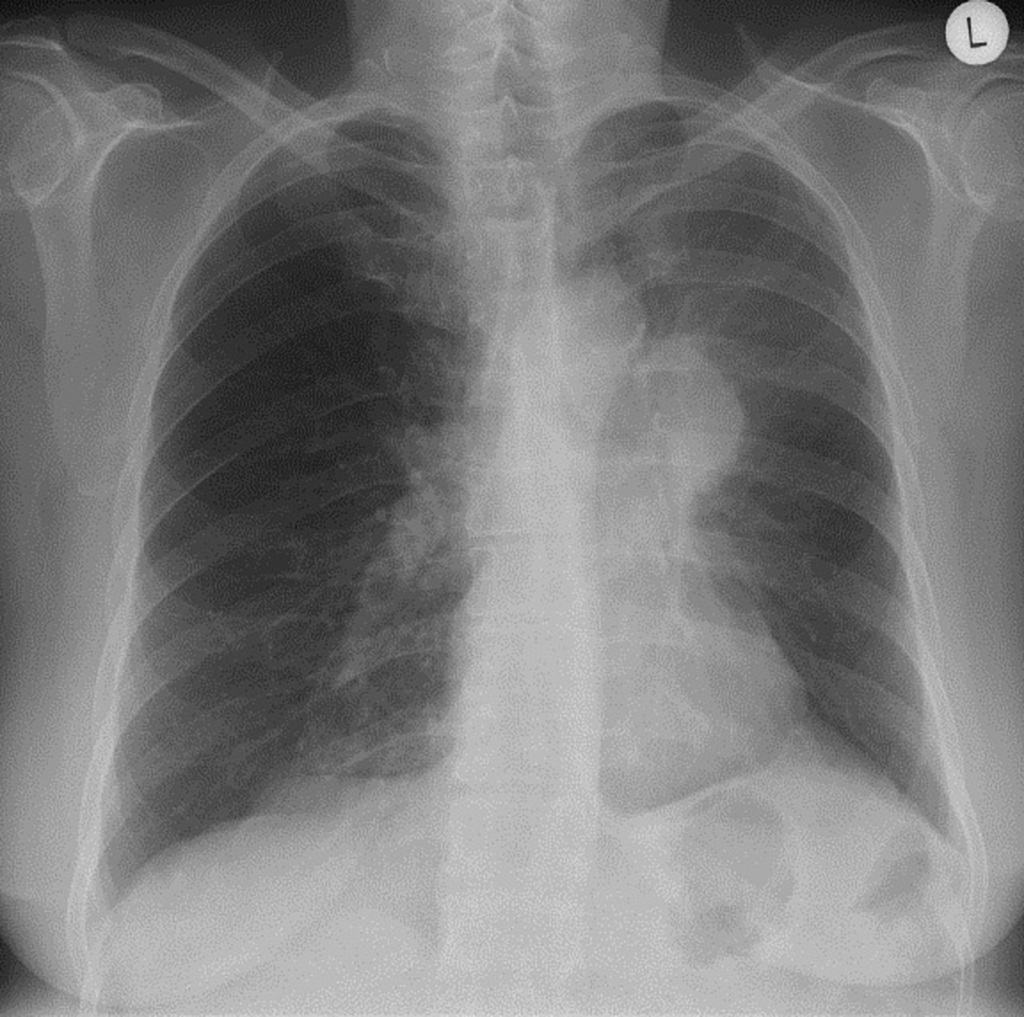cancer: (181, 241, 466, 713)
